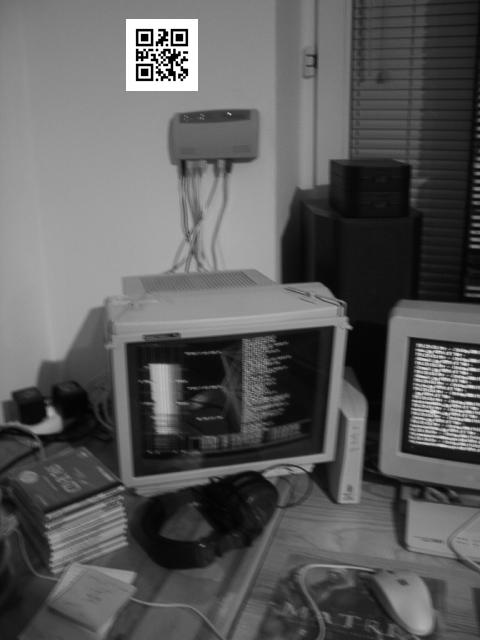qr_code: (126, 19, 200, 90)
